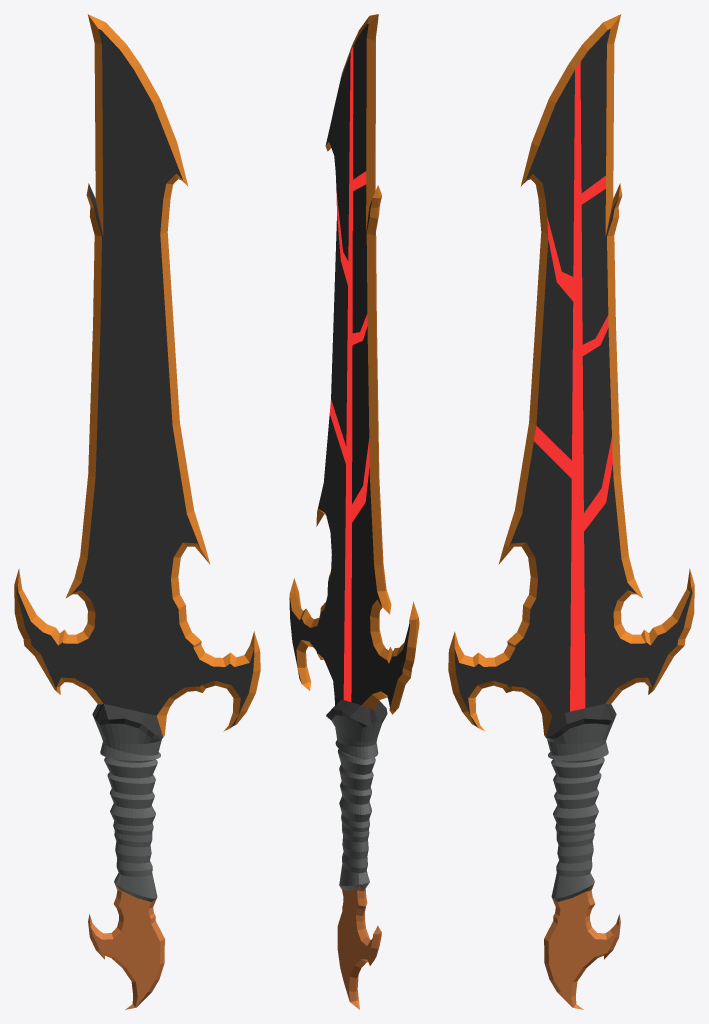
The model's file is red_sword.glb.
3 views of the same model, side by side, from view 1: azimuth 90°, elevation 25°; view 2: azimuth 210°, elevation 25°; view 3: azimuth 270°, elevation 25° (orthographic).
Parts seen in each view (by area): view 1: Plane; view 2: Plane; view 3: Plane.
Boxes of the visible parts, box(x1,y1,x2,y2) form: Plane: box(14, 14, 260, 1009); Plane: box(289, 14, 419, 1009); Plane: box(448, 14, 694, 1009).
Size of the model in its own units: 0.185 by 4.84 by 1.09.
